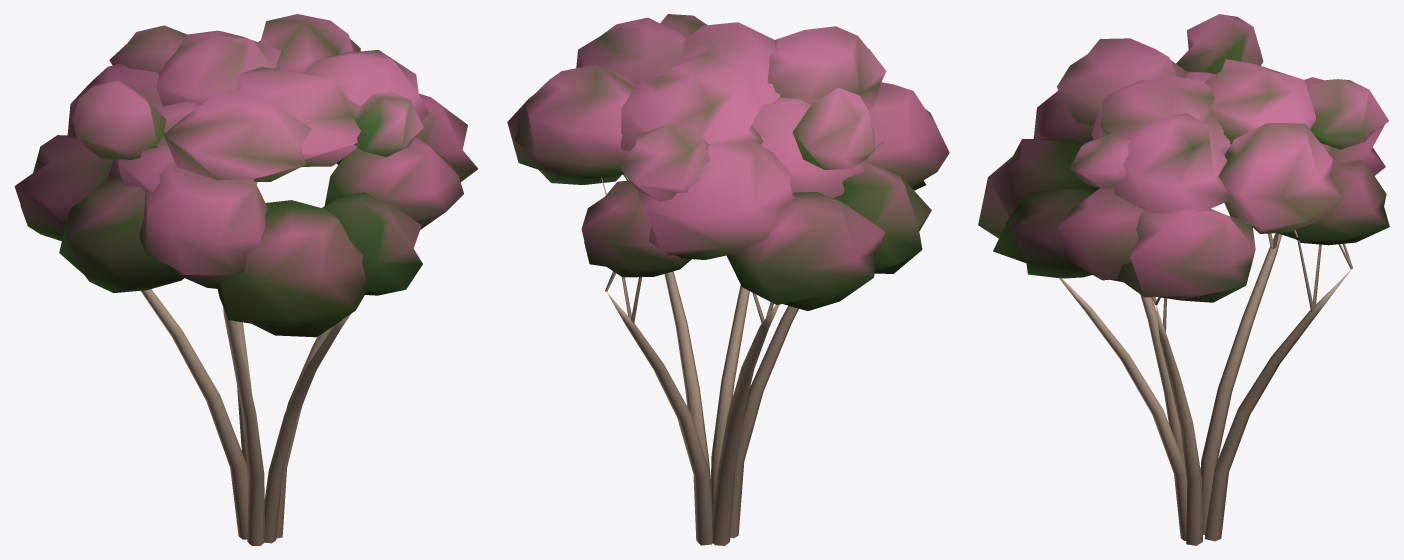
The model's file is crepe-myrtle-pink.glb.
3 renders of one model, left to right at view 1: azimuth 30°, elevation 25°; view 2: azimuth 150°, elevation 25°; view 3: azimuth 270°, elevation 25°, orthographic. The views are drawn at different scales.
Visible parts, largest first — view 1: CrepeMyrtlePink; view 2: CrepeMyrtlePink; view 3: CrepeMyrtlePink.
Part boxes in pixels (left/top/right/bottom): CrepeMyrtlePink: left=14, top=14, right=477, bottom=545; CrepeMyrtlePink: left=507, top=14, right=949, bottom=545; CrepeMyrtlePink: left=978, top=14, right=1389, bottom=545.
Bounding box in the file's own units: 4.76 × 5.62 × 4.52.
